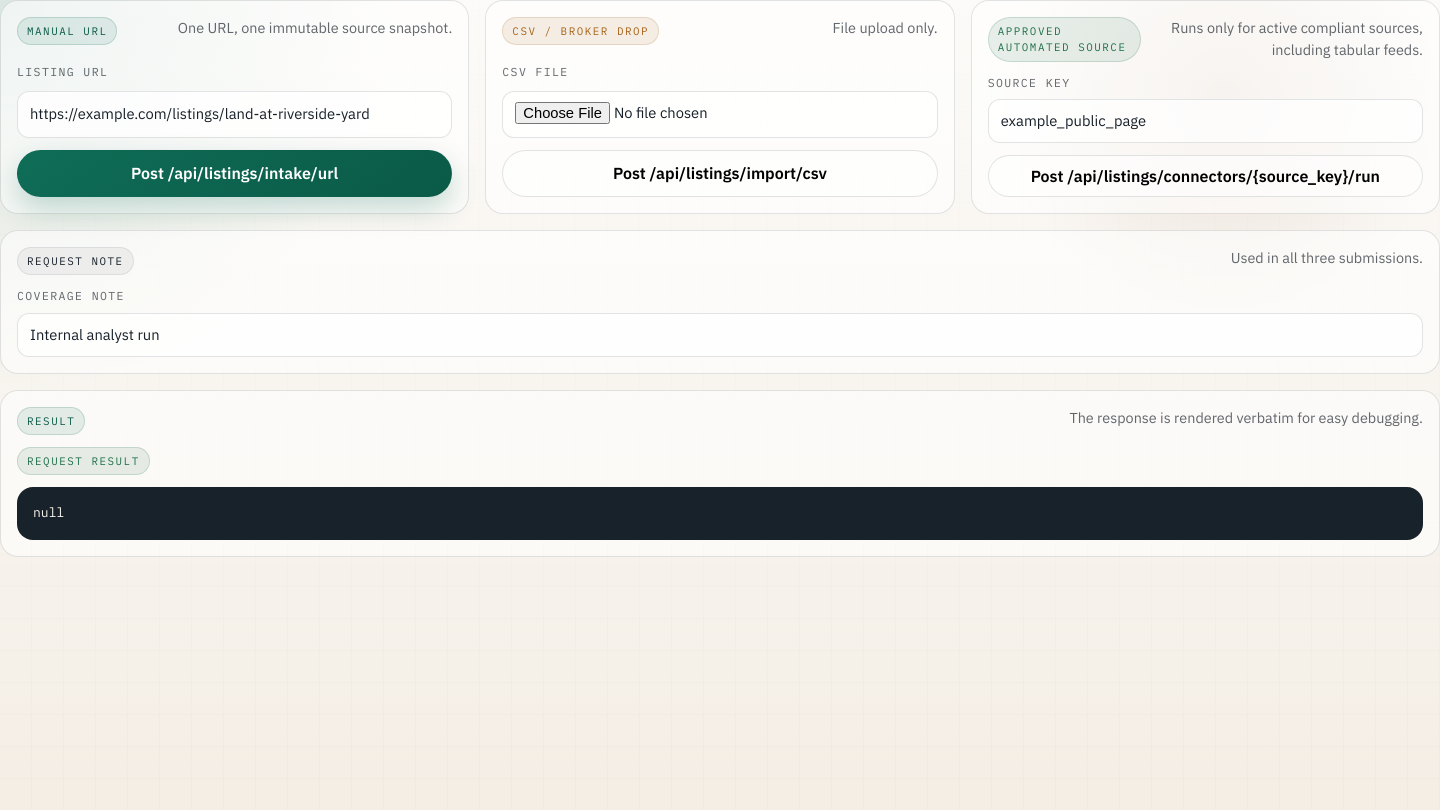
ListingRunPanel › surfaces request failures from manual URL submissions
This screenshot has width=1440, height=810.
Click the button "Post /api/listings/intake/url" at (235, 173), box [17,150,452,197]
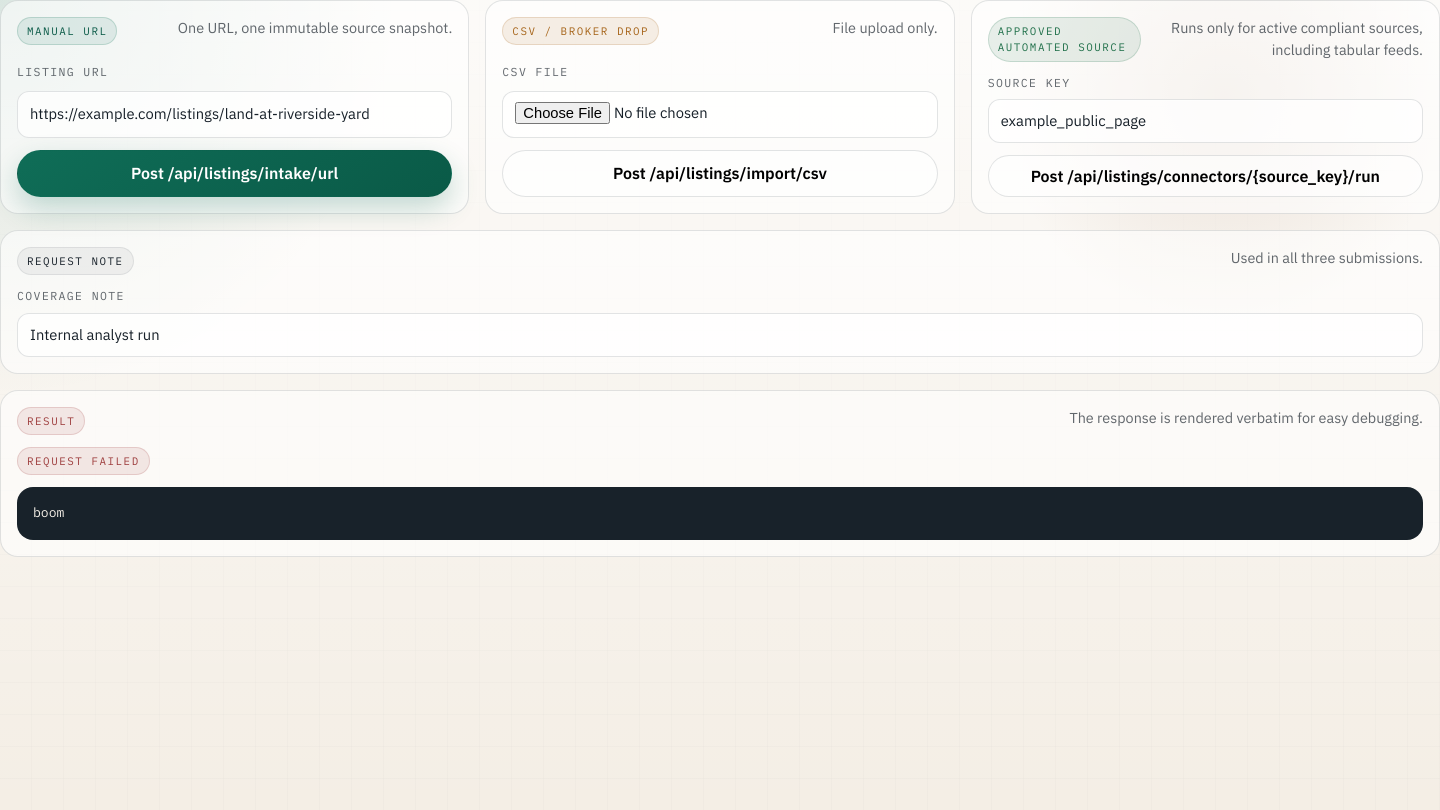
expect the text "boom" is shown: met, box [17,487,1423,540]
